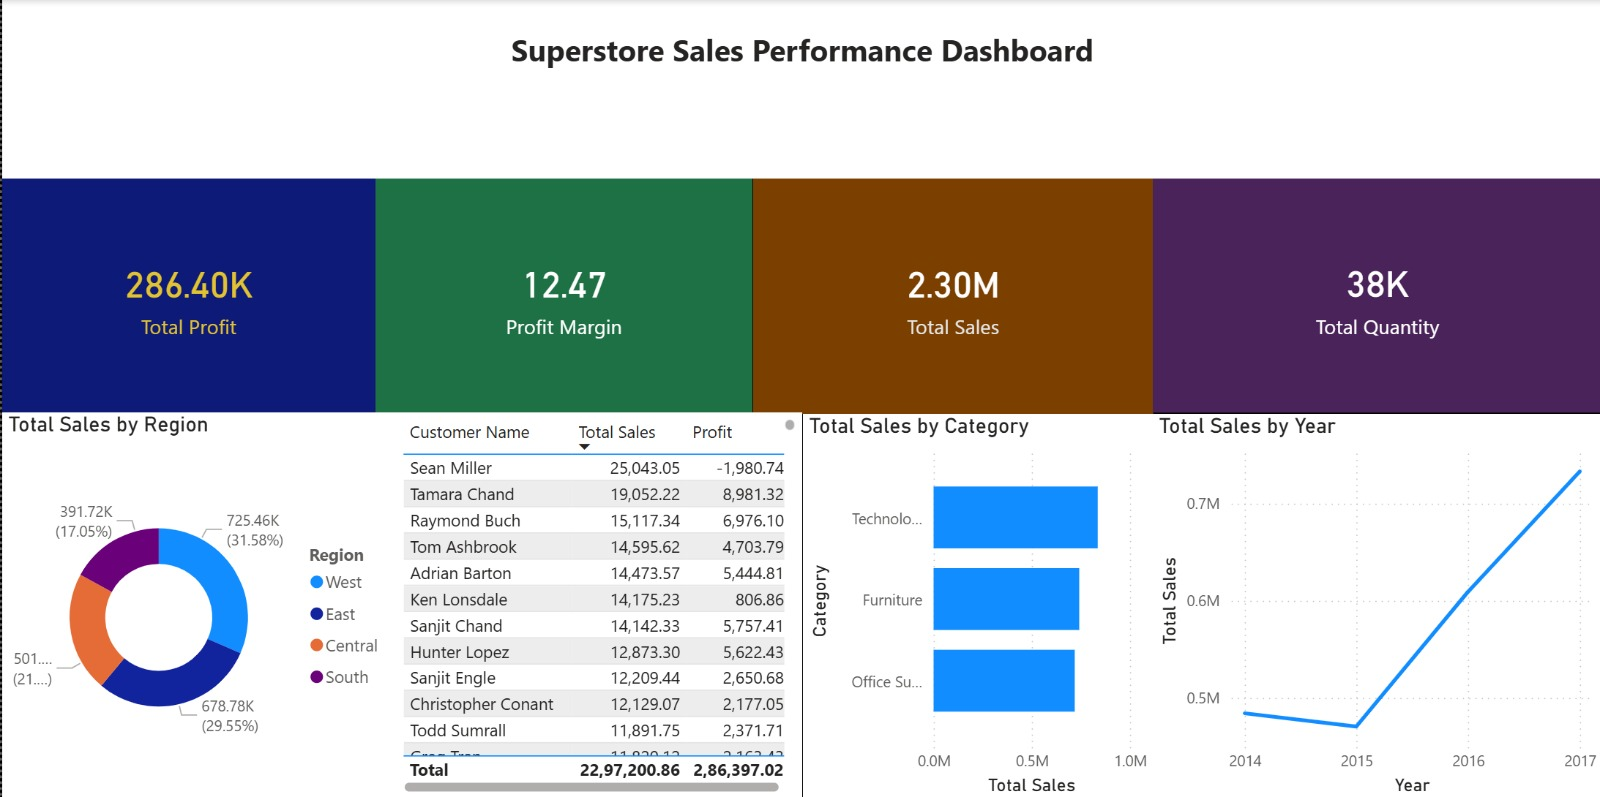

What the dashboard file says about the page in this screenshot:
{"tool":"powerbi","page":{"name":"Page 1","canvas":[1280,720],"ordinal":0},"visuals":[{"type":"card","fields":{"Values":["Sum(superstore_cleaned.Sales)"]},"box":[600.2,142.4,320,188.3],"z":0},{"type":"card","fields":{"Values":["Sum(superstore_cleaned.Profit)"]},"box":[0,142.4,298.6,188.3],"z":1000},{"type":"card","fields":{"Values":["Sum(superstore_cleaned.Quantity)"]},"box":[920.5,142.8,359.5,187.4],"z":2000},{"type":"card","fields":{"Values":["superstore_cleaned.Profit Margin"]},"box":[298.6,142.4,301.6,188.3],"z":3000},{"type":"clusteredBarChart","fields":{"Category":["superstore_cleaned.Category"],"Y":["Sum(superstore_cleaned.Sales)"]},"box":[640,331.5,280.5,309.8],"z":4000},{"type":"lineChart","fields":{"Category":["superstore_cleaned.Order Date.Variation.Date Hierarchy.Year","superstore_cleaned.Order Date.Variation.Date Hierarchy.Quarter","superstore_cleaned.Order Date.Variation.Date Hierarchy.Month","superstore_cleaned.Order Date.Variation.Date Hierarchy.Day"],"Y":["Sum(superstore_cleaned.Sales)"]},"box":[920.5,331.5,359.5,309.8],"z":4001},{"type":"donutChart","fields":{"Category":["superstore_cleaned.Region"],"Y":["Sum(superstore_cleaned.Sales)"]},"box":[0,330.7,315.4,309.3],"z":4002},{"type":"tableEx","fields":{"Values":["superstore_cleaned.Customer Name","Sum(superstore_cleaned.Sales)","Sum(superstore_cleaned.Profit)"]},"box":[315.4,330.7,324.6,309.3],"z":4003},{"type":"textbox","box":[0,0,1280,142.8],"z":4004}]}

Visuals, with their boxes on the page's 1280x720 design canvas (x1, y1, x2, y2). These are canvas units, not pixel positions in the 1600x797 screenshot, which may show the page scaled, cropped or inside an application window:
card - Sum(superstore_cleaned.Sales): 600:142:920:331
card - Sum(superstore_cleaned.Profit): 0:142:299:331
card - Sum(superstore_cleaned.Quantity): 920:143:1280:330
card - superstore_cleaned.Profit Margin: 299:142:600:331
clusteredBarChart - superstore_cleaned.Category x Sum(superstore_cleaned.Sales): 640:332:920:641
lineChart - superstore_cleaned.Order Date.Variation.Date Hierarchy.Year x superstore_cleaned.Order Date.Variation.Date Hierarchy.Quarter: 920:332:1280:641
donutChart - superstore_cleaned.Region x Sum(superstore_cleaned.Sales): 0:331:315:640
tableEx - superstore_cleaned.Customer Name x Sum(superstore_cleaned.Sales): 315:331:640:640
textbox: 0:0:1280:143
